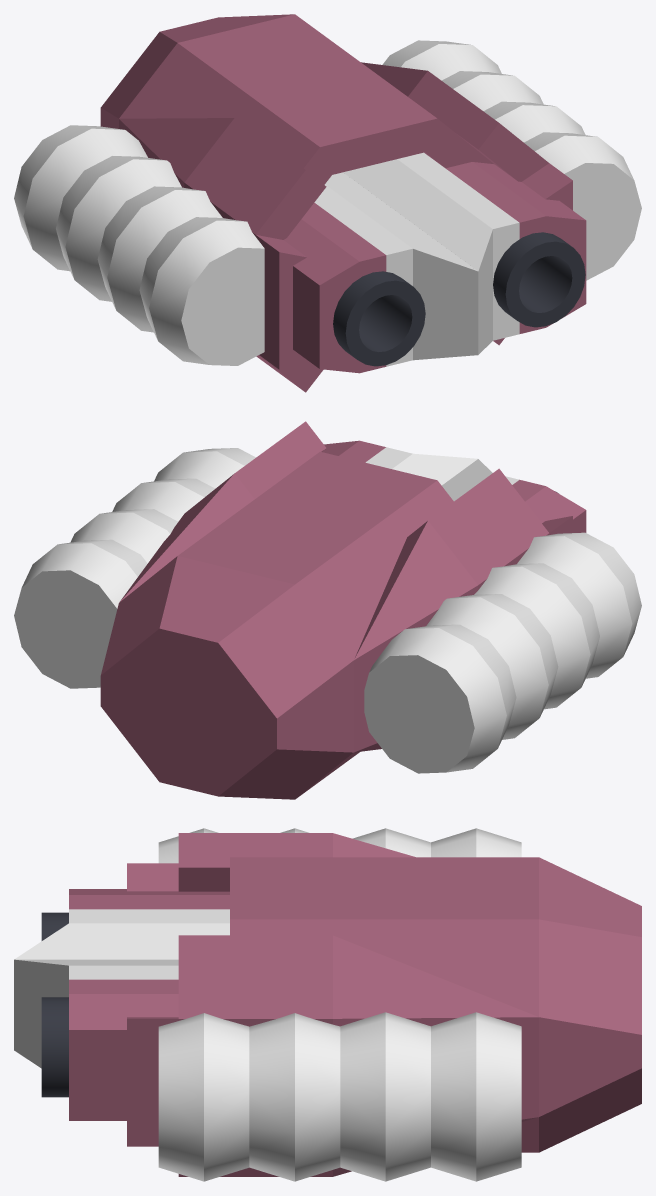
The model's file is flying_01_01.obj.
3 renders of one model, top to bottom at view 1: azimuth 30°, elevation 25°; view 2: azimuth 150°, elevation 25°; view 3: azimuth 270°, elevation 25°, orthographic. The views are drawn at different scales.
Visible parts, largest first — view 1: mergedBlocks; view 2: mergedBlocks; view 3: mergedBlocks.
Boxes of the visible parts, x1,y1,x2,y2 form: mergedBlocks: [14, 14, 641, 392]; mergedBlocks: [14, 421, 641, 799]; mergedBlocks: [14, 828, 641, 1181].
Bounding box in the file's own units: 1.97 × 0.8691 × 2.05.
